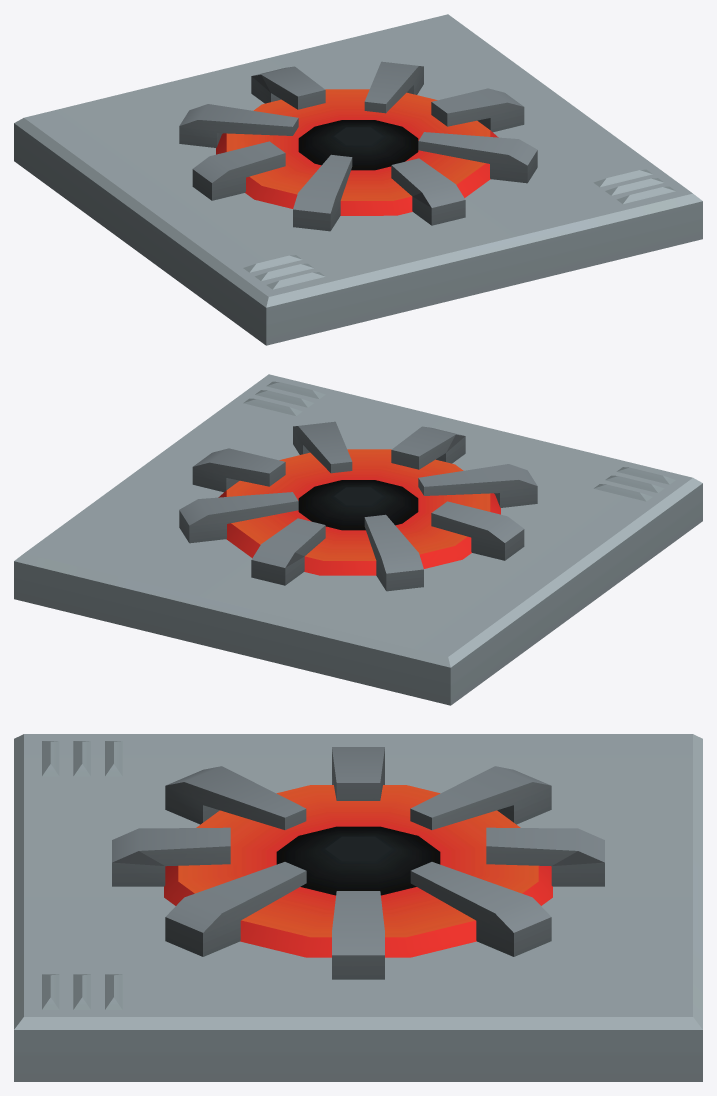
The model's file is cafe-espresso.glb.
3 renders of one model, top to bottom at view 1: azimuth 30°, elevation 25°; view 2: azimuth 150°, elevation 25°; view 3: azimuth 270°, elevation 25°, orthographic. The views are drawn at different scales.
Visible parts, largest first — view 1: stove_single_countertop; view 2: stove_single_countertop; view 3: stove_single_countertop.
Part boxes in pixels (x1=…): stove_single_countertop: x1=14, y1=14, x2=702, y2=345; stove_single_countertop: x1=14, y1=374, x2=702, y2=705; stove_single_countertop: x1=14, y1=734, x2=702, y2=1081.
Size of the model in its own units: 57211 by 9100 by 57211.
Materials: 1 (1 with a texture image).
